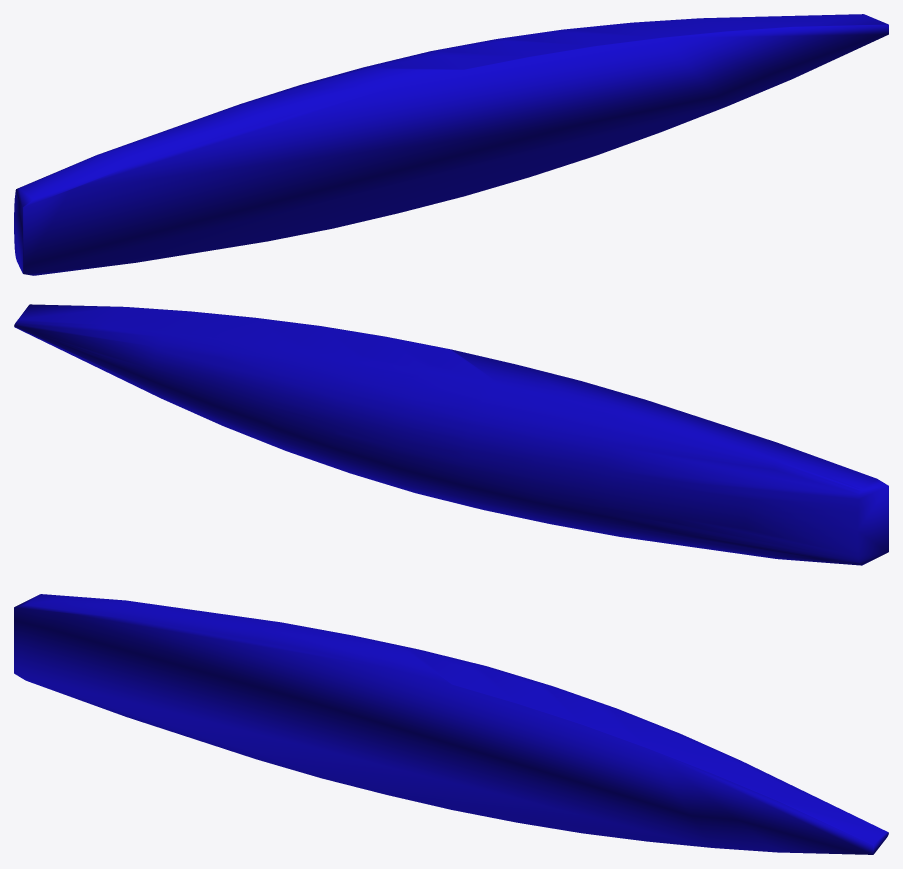
The model's file is deck_hull_colored.obj.
3 renders of one model, top to bottom at view 1: azimuth 30°, elevation 25°; view 2: azimuth 150°, elevation 25°; view 3: azimuth 330°, elevation 25°, orthographic.
Bounding box in the file's own units: 1.97 × 0.2806 × 0.212.
